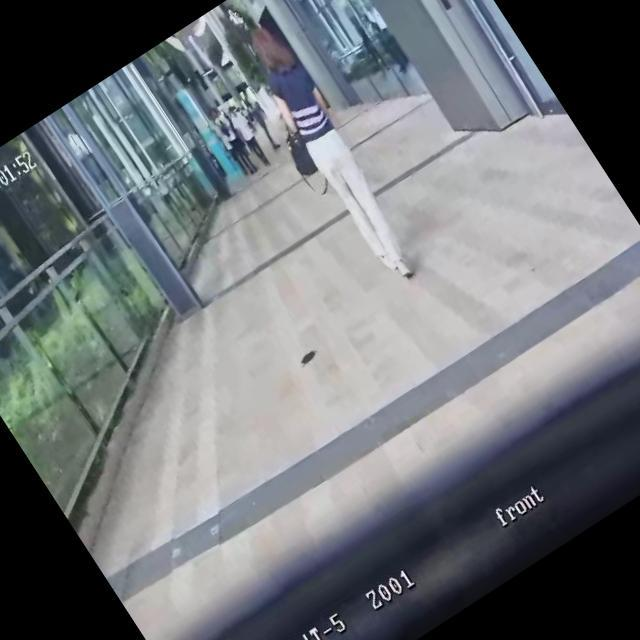person: (231, 13, 434, 289), (223, 102, 276, 170), (211, 110, 261, 177), (206, 113, 252, 179), (240, 94, 284, 153)
